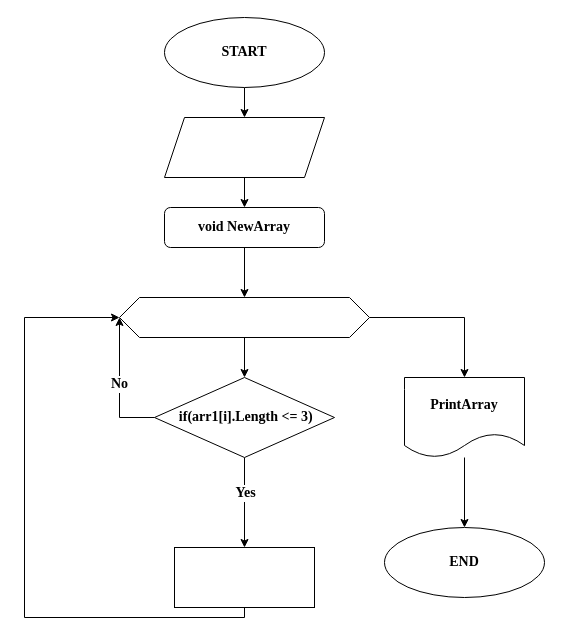
This 562x643 diagram has some shape labels left out. Here are the shapes that lost their labels. From the top down, the centre of each, then its label:
At (x=244, y=147): "string[] arr1 string[] arr2 int count = 0".
At (x=244, y=317): "for (int i = 0; i < arr1.Length; i++)".
At (x=244, y=577): "arr2[count] = arr1[i] count++".
